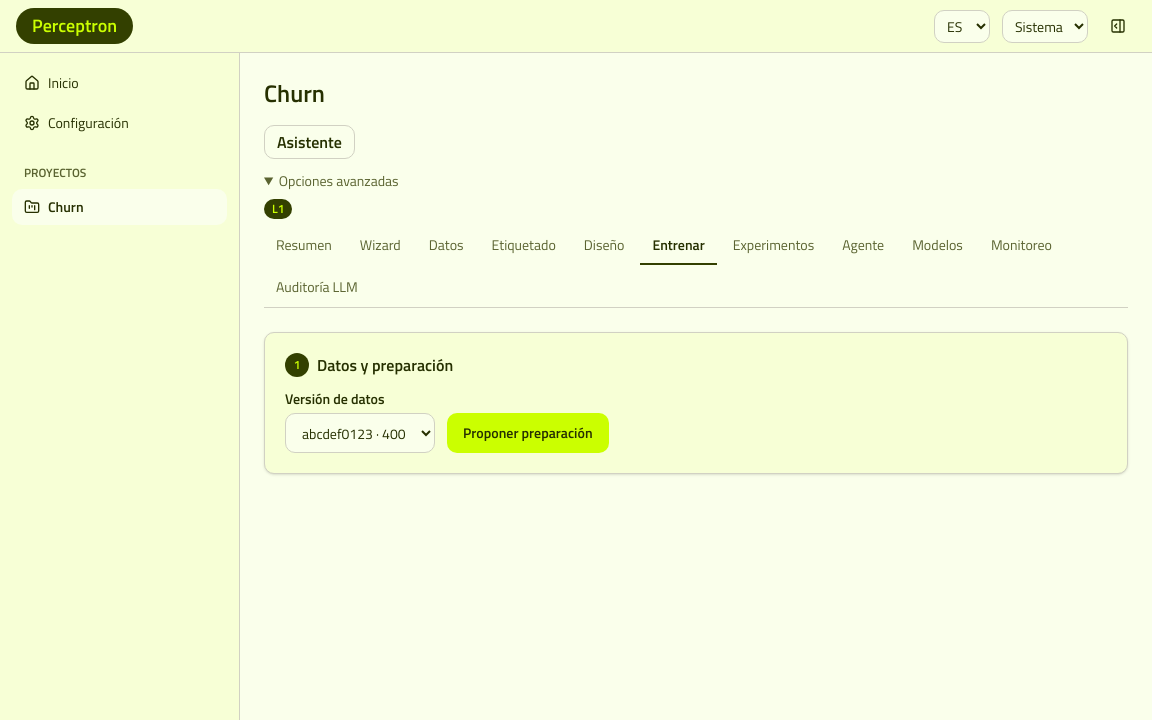
Test: pantallas › Entrenar: propone intentos y épocas con sus motivos y los recalcula con otro tiempo
Step 1. Click the button "Proponer preparación" → (528, 433), box x1=447 y1=413 x2=608 y2=453
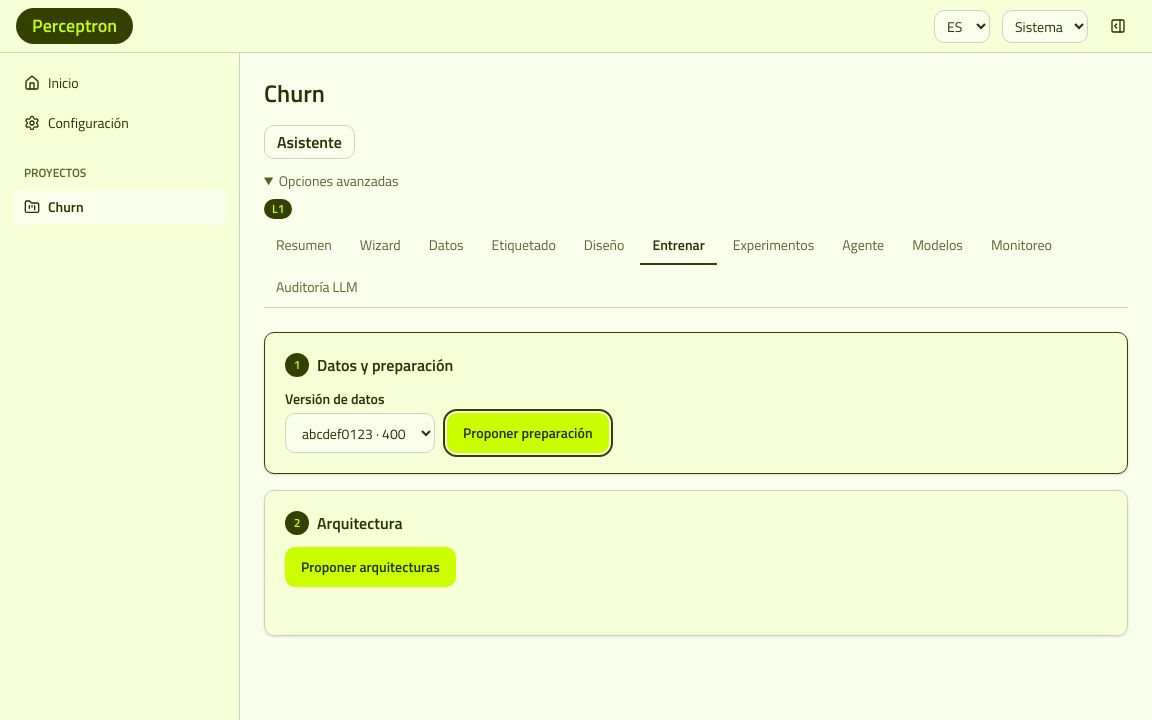
Step 2. Click the button "Proponer arquitecturas" → (370, 567), box x1=285 y1=547 x2=456 y2=587
(page scrolled)
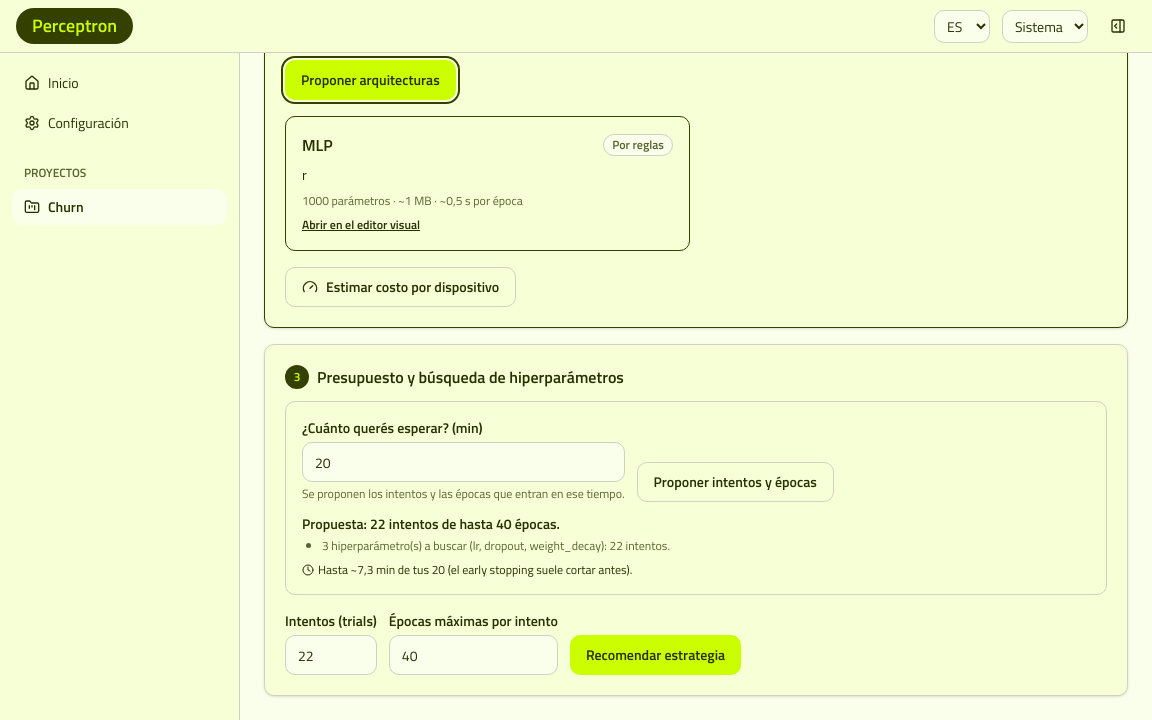
Result: the text "Propuesta: 22 intentos de hasta 40 épocas." is shown at x1=302 y1=513 x2=560 y2=534
Result: the list item "3 hiperparámetro(s) a buscar" is shown at x1=322 y1=536 x2=670 y2=555
Result: the number field labelled "Intentos (trials)" holds "22" at x1=285 y1=635 x2=377 y2=675
Step 3. Replace the text in the number field labelled "¿Cuánto querés esperar? (min)" with "5" → (463, 462), box x1=302 y1=442 x2=625 y2=482
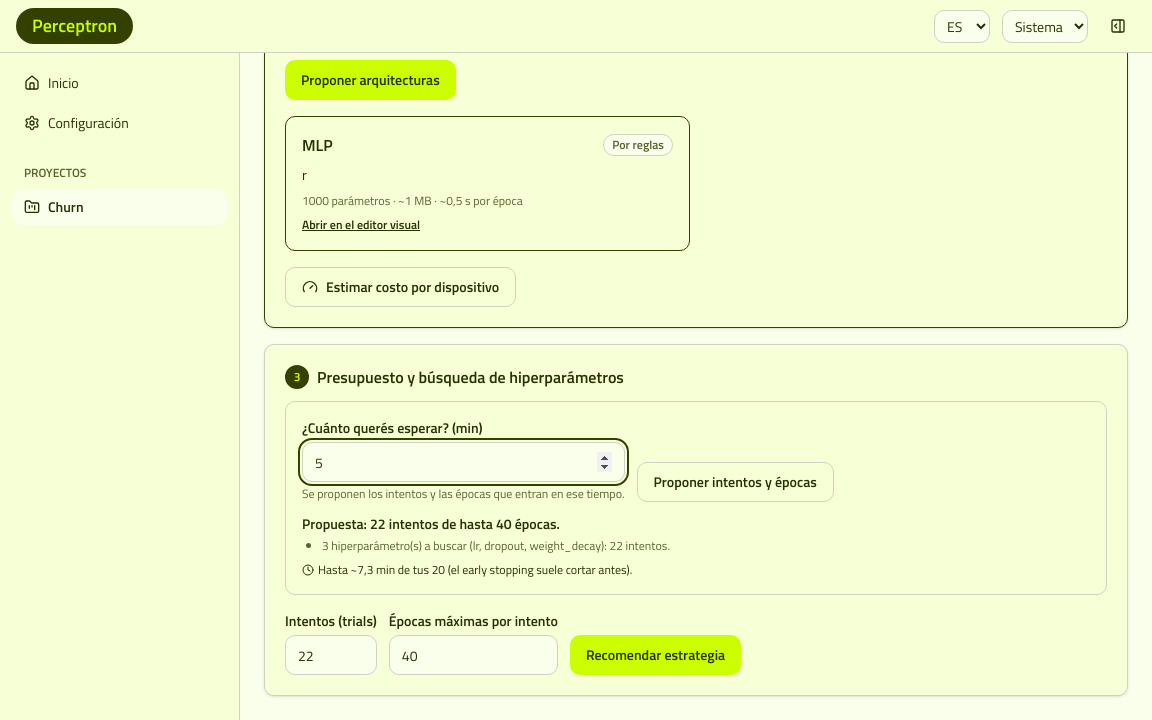
Step 4. Click the button "Proponer intentos y épocas" → (735, 482), box x1=637 y1=462 x2=834 y2=502
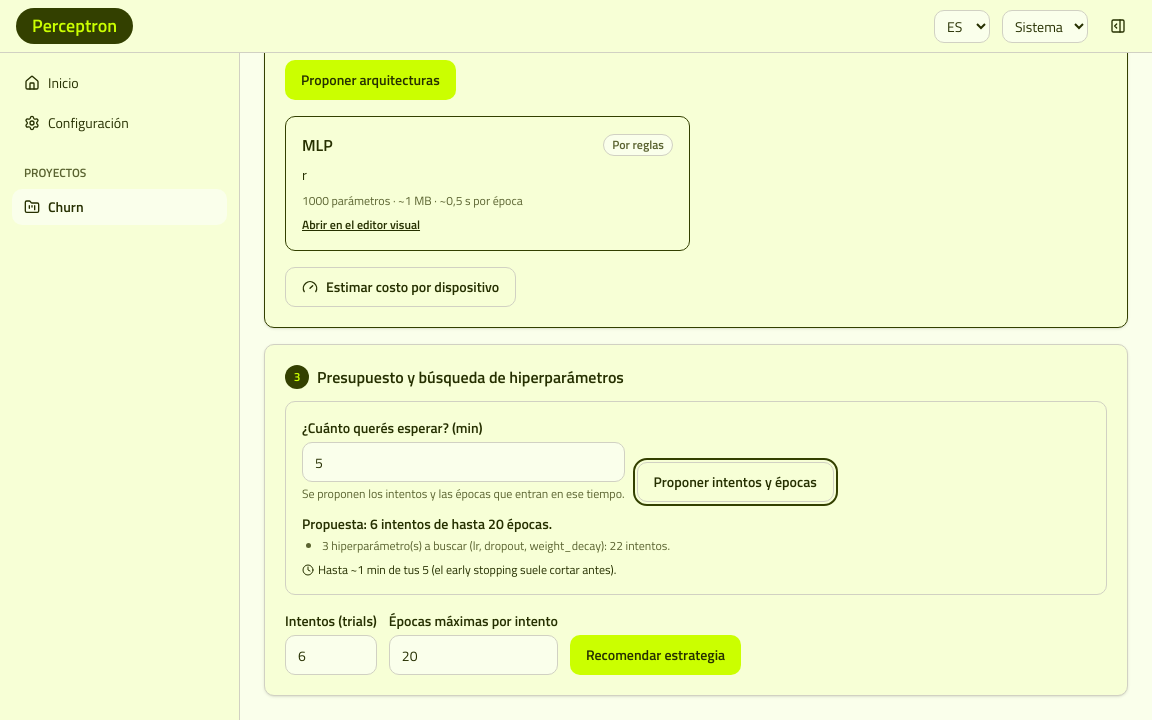
Result: the text "Propuesta: 6 intentos de hasta 20 épocas." is shown at x1=302 y1=513 x2=552 y2=534
Result: the number field labelled "Intentos (trials)" holds "6"
Note: Si se edita a mano, la duración estimada se recalcula.
Step 5. Replace the text in the number field labelled "Intentos (trials)" with "60" → (331, 655), box x1=285 y1=635 x2=377 y2=675
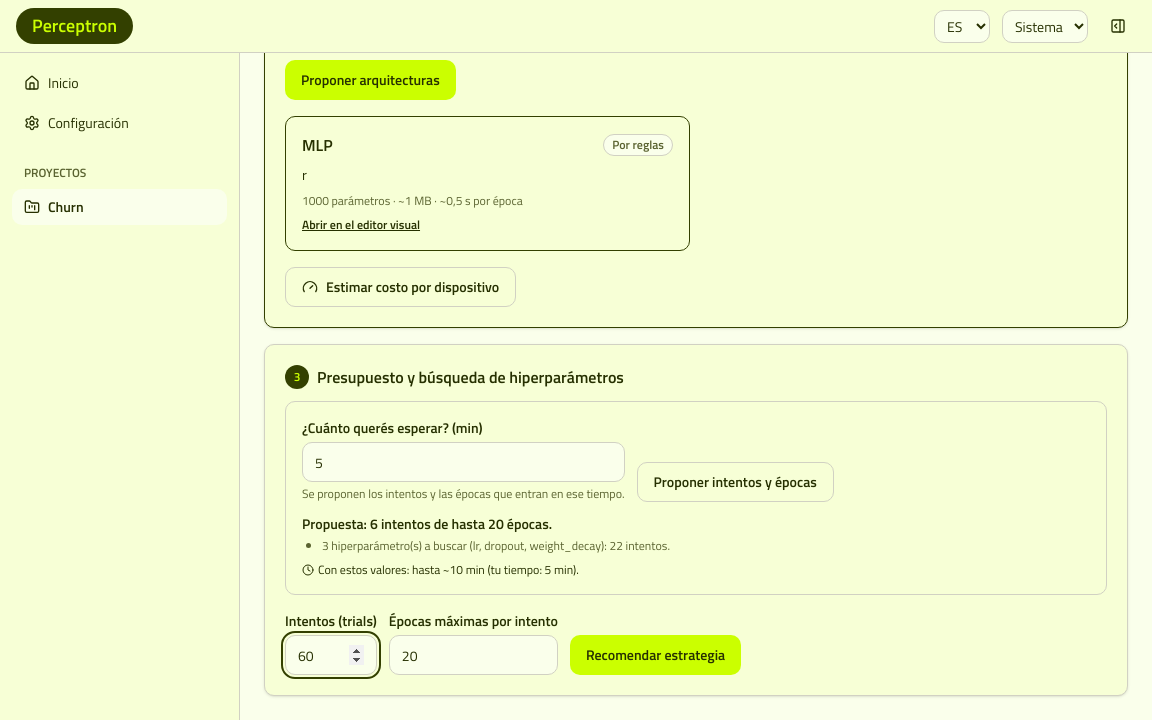
Result: the text "Con estos valores: hasta ~10 min (tu tiempo: 5 min)." is shown at x1=302 y1=560 x2=579 y2=579
